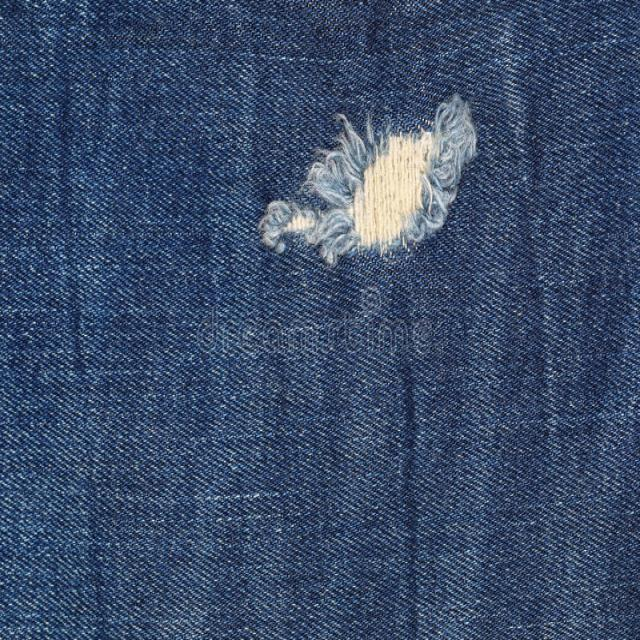Hole: (259, 95, 478, 264)
Line: (60, 59, 106, 640), (400, 347, 418, 640)
